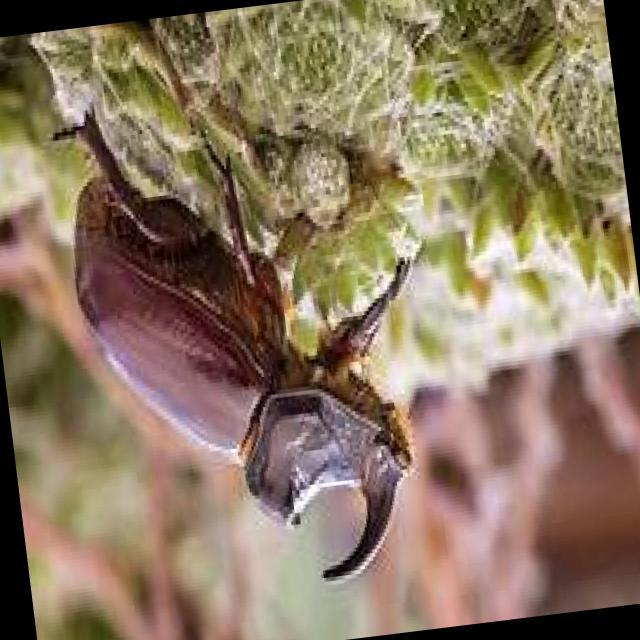Rhino-beetle: (52, 148, 438, 582)
